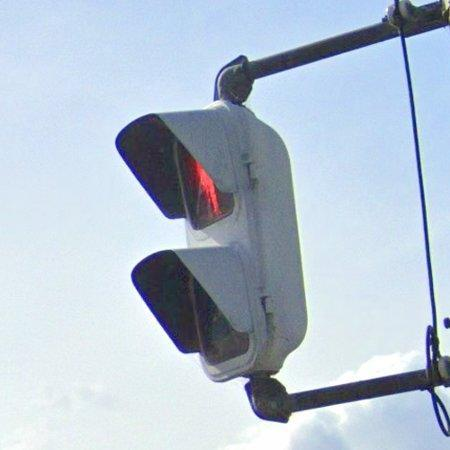traffic lights: (114, 99, 306, 383)
